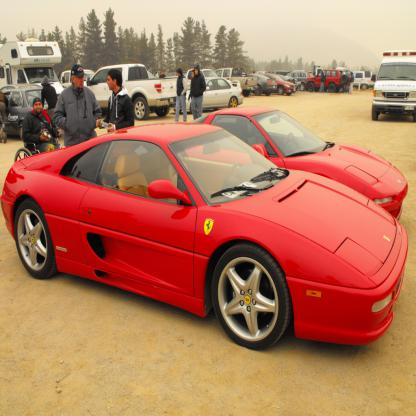Ambulance: (371, 50, 416, 122)
Car: (0, 122, 409, 351), (0, 70, 377, 138)
